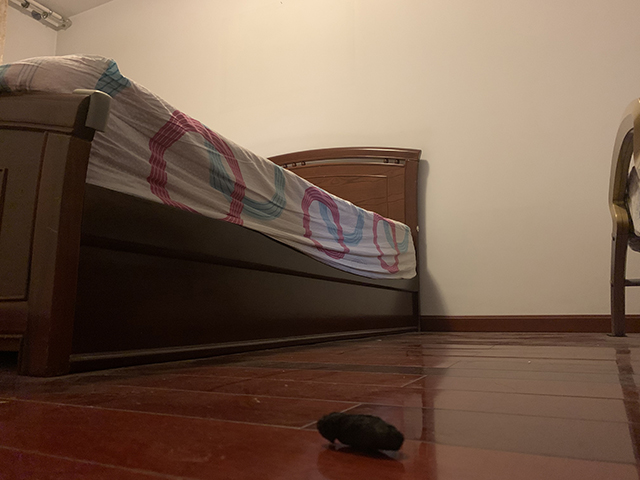bed: (1, 52, 422, 379)
feces: (316, 409, 405, 455)
